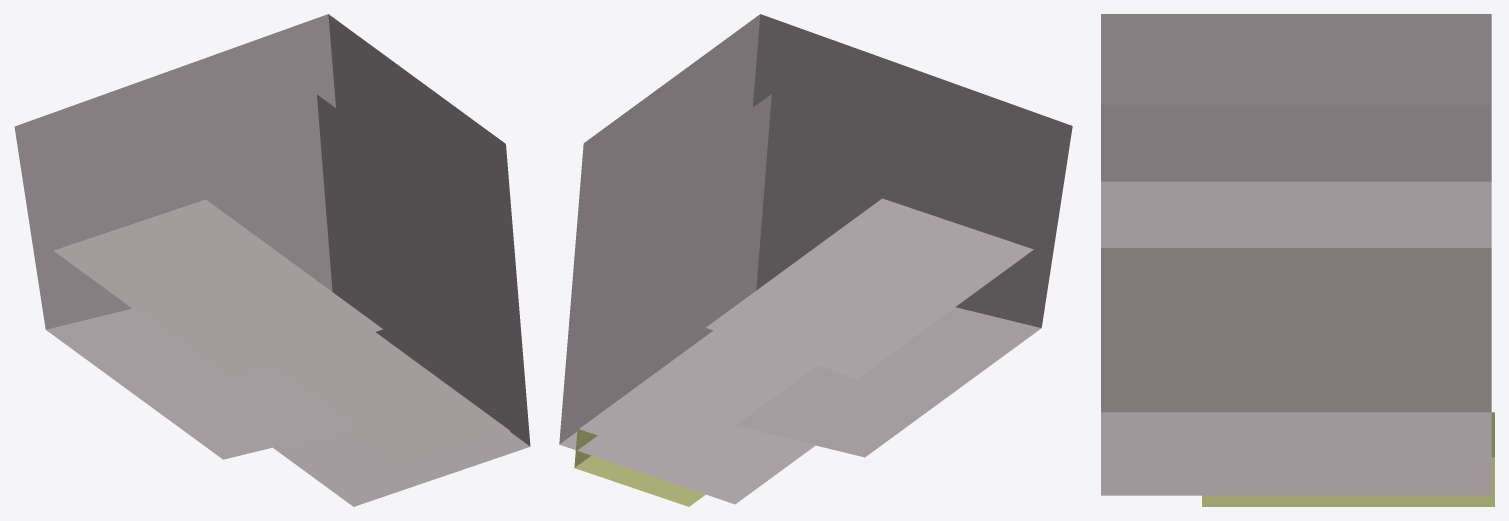
The picture shows the model from 3 angles, left to right: view 1: azimuth 30°, elevation 25°; view 2: azimuth 150°, elevation 25°; view 3: azimuth 270°, elevation 25°; orthographic projection. The views are drawn at different scales.
Parts seen in each view (by area): view 1: 0_2_3_3_3_1_0_1_3_2; view 2: 0_2_3_3_3_1_0_1_3_2; view 3: 0_2_3_3_3_1_0_1_3_2.
Boxes of the visible parts, left/top/right/bottom form: 0_2_3_3_3_1_0_1_3_2: left=14, top=14, right=530, bottom=506; 0_2_3_3_3_1_0_1_3_2: left=559, top=14, right=1072, bottom=506; 0_2_3_3_3_1_0_1_3_2: left=1101, top=14, right=1494, bottom=506.
Bounding box in the file's own units: 13.21 × 12.61 × 12.1.
